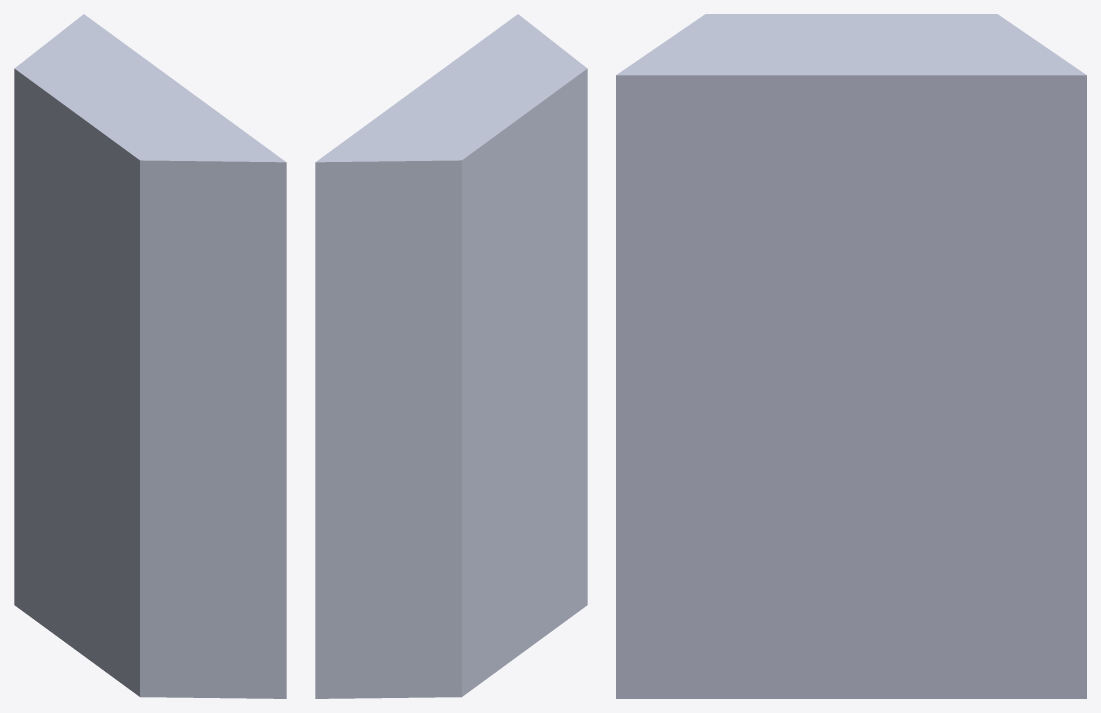
The picture shows the model from 3 angles, left to right: view 1: azimuth 30°, elevation 25°; view 2: azimuth 150°, elevation 25°; view 3: azimuth 270°, elevation 25°; orthographic projection. The views are drawn at different scales.
Parts seen in each view (by area): view 1: object_062; view 2: object_062; view 3: object_062.
Part boxes in pixels (box(x1,y1,x2,y2)): object_062: box(14, 14, 286, 698); object_062: box(315, 14, 587, 698); object_062: box(616, 14, 1086, 698).
Size of the model in its own units: 0.4 by 1.9 by 1.3.
